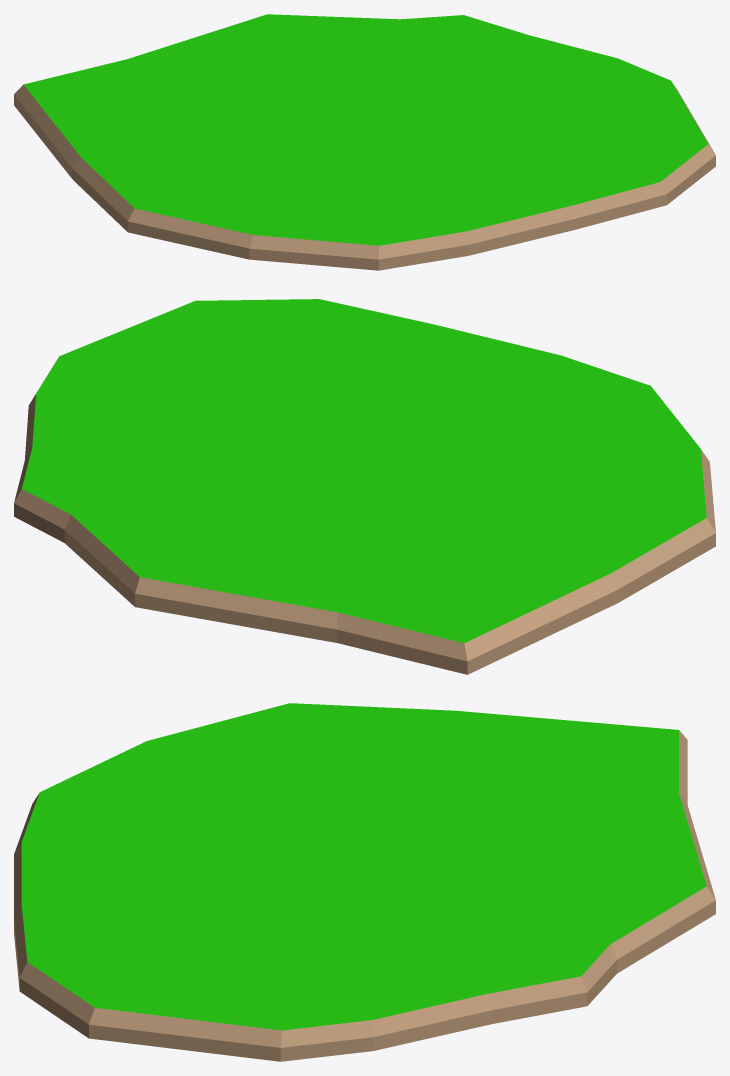
3 renders of one model, top to bottom at view 1: azimuth 30°, elevation 25°; view 2: azimuth 150°, elevation 25°; view 3: azimuth 270°, elevation 25°, orthographic. The views are drawn at different scales.
Parts seen in each view (by area): view 1: Lvl 3 (island 3); view 2: Lvl 3 (island 3); view 3: Lvl 3 (island 3).
Boxes of the visible parts, <box> form: Lvl 3 (island 3): <box>14,14,715,270</box>; Lvl 3 (island 3): <box>14,299,715,674</box>; Lvl 3 (island 3): <box>14,703,715,1061</box>.
Bounding box in the file's own units: 2.56 × 0.0981 × 2.26.
